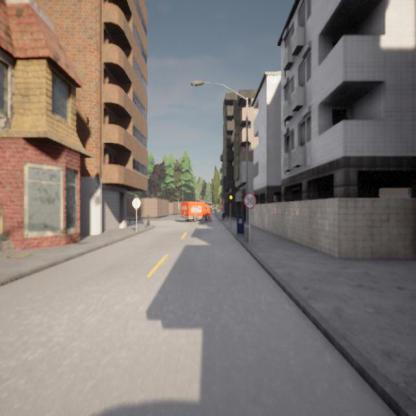traffic_sign_30: (244, 192, 256, 209)
